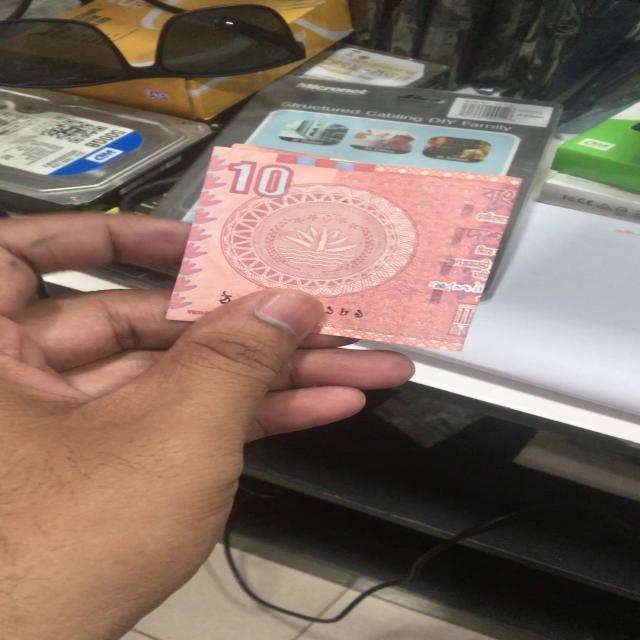Taka: (191, 148, 513, 338)
